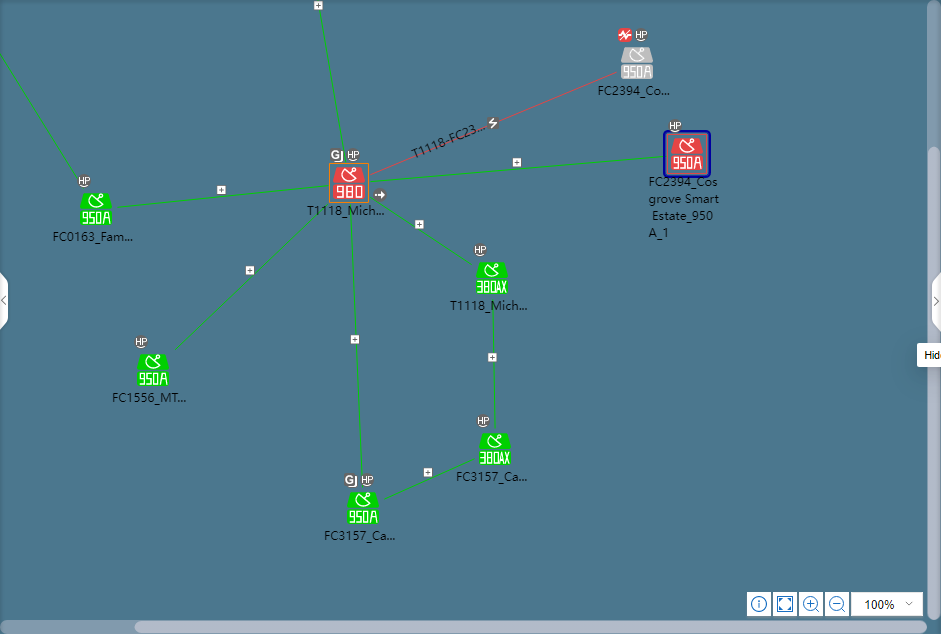Link_Green: (174, 202, 330, 352), (370, 154, 662, 183), (371, 193, 473, 269), (115, 184, 327, 210), (318, 11, 348, 162), (348, 205, 364, 473), (383, 456, 475, 501), (491, 299, 497, 431)
Link_Red: (371, 70, 617, 176)
RTN_Gray: (621, 47, 652, 79)
RTN_Green: (136, 355, 168, 386), (347, 493, 378, 525), (479, 434, 510, 466), (80, 194, 111, 225), (476, 263, 507, 294)
RTN_Red: (666, 132, 708, 175), (329, 164, 368, 202)
